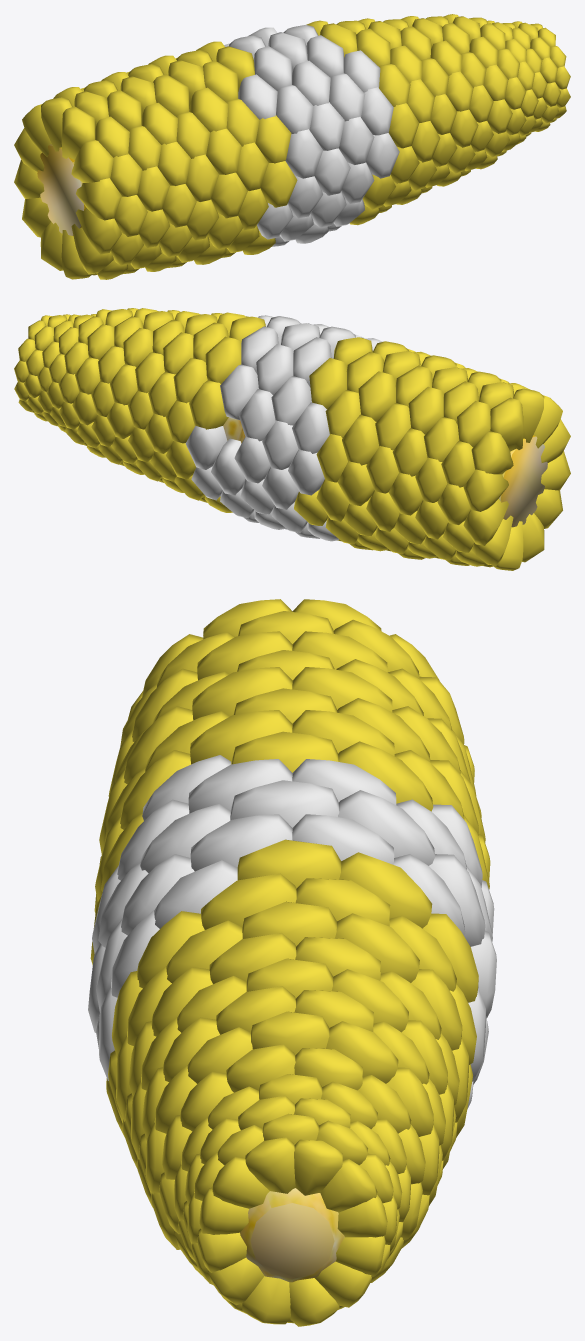
Rendered from Corn3.fbx.
3 renders of one model, top to bottom at view 1: azimuth 30°, elevation 25°; view 2: azimuth 150°, elevation 25°; view 3: azimuth 270°, elevation 25°, orthographic. The views are drawn at different scales.
Parts seen in each view (by area): view 1: Cylinder.011, Cube.003, Cube.140, Cube.008, Cube.142, Cube.010, Cube.130, Cube.128, Cube.135, Cube.152, Cube.154, Cube.164 (+100 smaller); view 2: Cylinder.011, Cube.124, Cube.157, Cube.148, Cube.133, Cube.100, Cube.121, Cube.296, Cube.004, Cube.096, Cube.145, Cube.001 (+96 smaller); view 3: Cylinder.011, Cube.292, Cube.147, Cube.159, Cube.291, Cube.148, Cube.280, Cube.160, Cube.135, Cube.111, Cube.267, Cube.268 (+101 smaller).
Part boxes in pixels (<box>): Cylinder.011: <box>37,144,86,235</box>; Cube.003: <box>61,106,95,159</box>; Cube.140: <box>276,85,313,133</box>; Cube.008: <box>71,140,113,182</box>; Cube.142: <box>285,129,322,178</box>; Cube.010: <box>76,178,121,220</box>; Cube.130: <box>255,115,291,163</box>; Cube.128: <box>238,74,277,119</box>; Cube.135: <box>254,46,292,91</box>; Cube.152: <box>292,60,330,105</box>; Cube.154: <box>309,102,344,150</box>; Cube.164: <box>329,73,365,121</box>; Cylinder.011: <box>223,417,547,527</box>; Cube.124: <box>309,358,346,408</box>; Cube.157: <box>220,364,258,420</box>; Cube.148: <box>256,344,293,395</box>; Cube.133: <box>271,376,311,425</box>; Cube.100: <box>358,371,395,421</box>; Cube.121: <box>292,402,329,453</box>; Cube.296: <box>189,380,228,429</box>; Cube.004: <box>490,397,523,451</box>; Cube.096: <box>342,414,379,465</box>; Cube.145: <box>238,389,275,441</box>; Cube.001: <box>471,431,513,474</box>; Cylinder.011: <box>240,1188,344,1282</box>; Cube.292: <box>237,839,341,888</box>; Cube.147: <box>230,780,339,827</box>; Cube.159: <box>190,814,292,871</box>; Cube.291: <box>339,852,432,928</box>; Cube.148: <box>338,790,435,865</box>; Cube.280: <box>201,873,296,929</box>; Cube.160: <box>292,814,394,864</box>; Cube.135: <box>188,759,292,813</box>; Cube.111: <box>190,710,292,764</box>; Cube.267: <box>335,913,419,982</box>; Cube.268: <box>242,901,336,946</box>.
Size of the model in its own units: 158 by 59.53 by 56.09.
